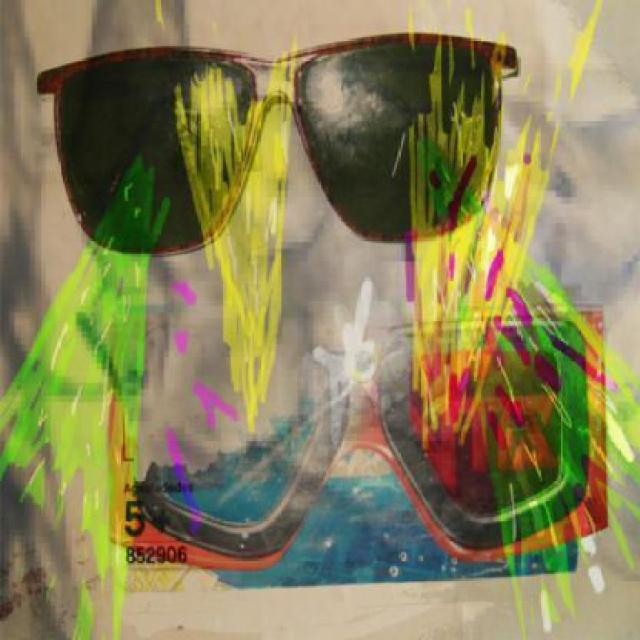glasses: (33, 26, 516, 257)
